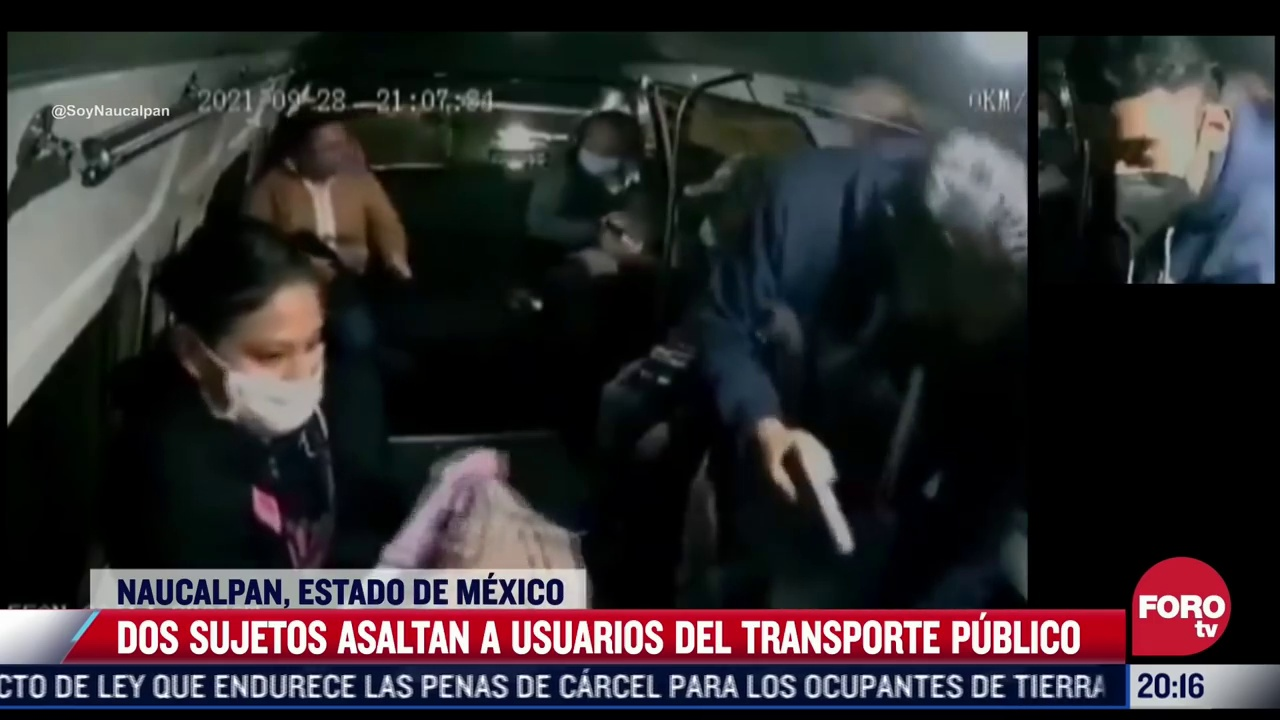pistol: (782, 437, 861, 558)
